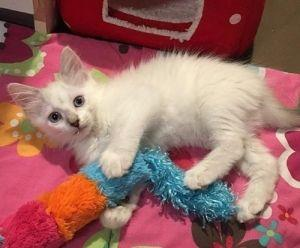siamese: (6, 45, 105, 151)
